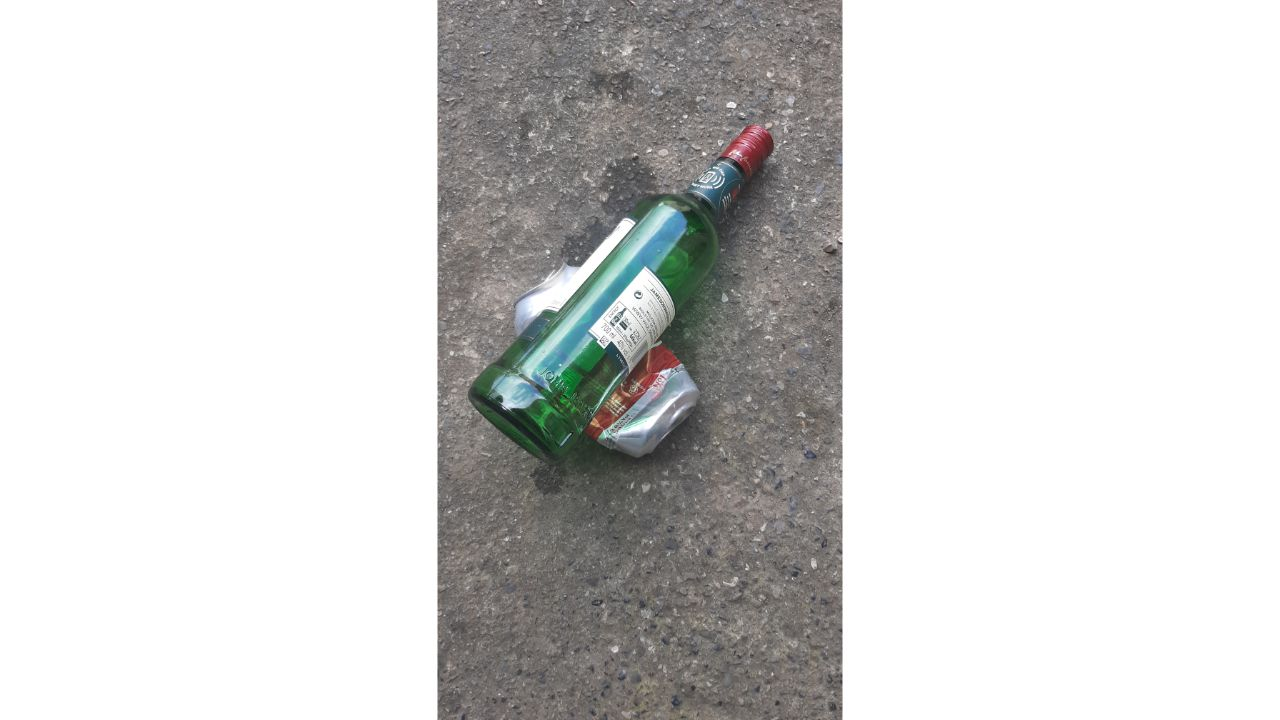Can: (504, 256, 707, 467)
